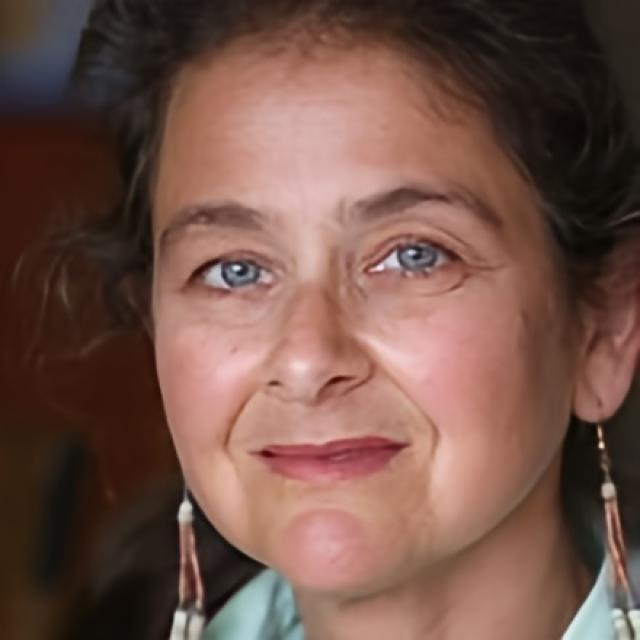happy: (147, 35, 569, 589)
